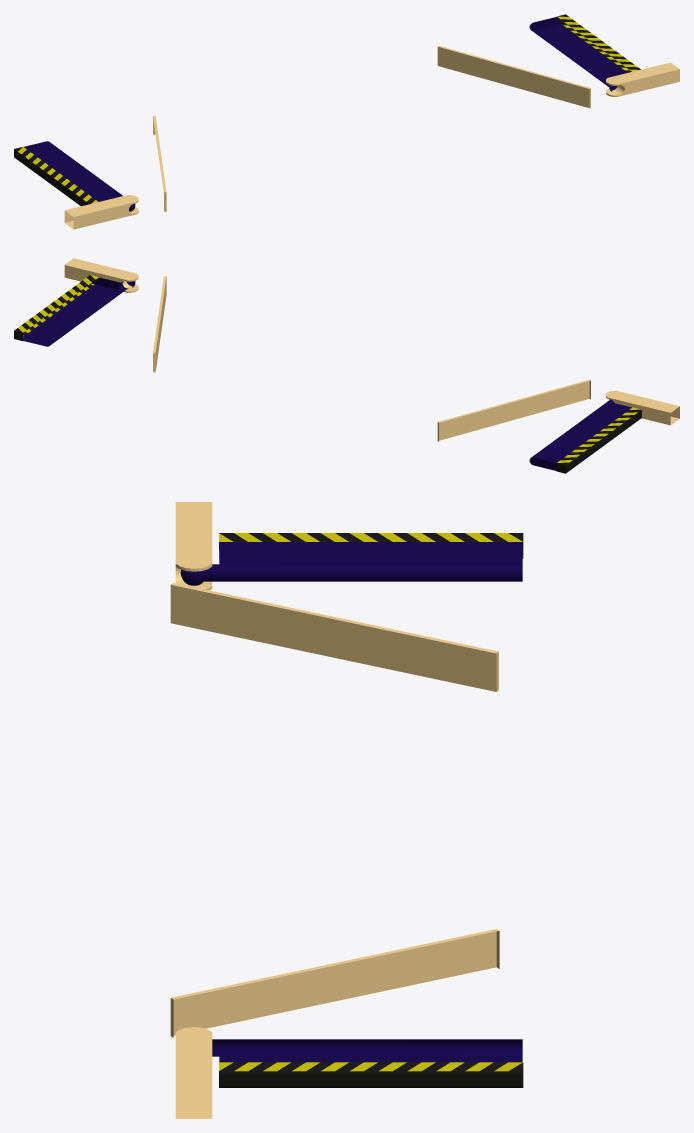
Rendered from sweepers.glb.
The picture shows the model from 3 angles, top to bottom: view 1: azimuth 30°, elevation 25°; view 2: azimuth 150°, elevation 25°; view 3: azimuth 270°, elevation 25°; orthographic projection. The views are drawn at different scales.
Parts seen in each view (by area): view 1: right-door, right-sweeper, left-sweeper, left-base, right-base, left-flap, right-flap; view 2: left-door, right-sweeper, left-sweeper, left-flap, left-base, right-base, right-flap, right-door; view 3: left-door, right-door, left-sweeper, right-flap, right-sweeper, right-base, left-base, left-flap.
Part boxes in pixels (box(x1,y1,x2,y2)): right-door: box(437, 46, 590, 108); right-sweeper: box(529, 17, 627, 91); left-sweeper: box(24, 141, 135, 211); left-base: box(64, 195, 138, 229); right-base: box(606, 62, 679, 96); left-flap: box(14, 147, 98, 206); right-flap: box(557, 14, 640, 72); left-door: box(437, 379, 590, 441); right-sweeper: box(23, 277, 135, 346); left-sweeper: box(529, 399, 631, 470); left-flap: box(556, 407, 641, 473); left-base: box(605, 390, 679, 425); right-base: box(64, 258, 138, 292); right-flap: box(14, 275, 98, 340); right-door: box(153, 276, 166, 372); left-door: box(170, 583, 498, 691); right-door: box(170, 929, 499, 1037); left-sweeper: box(180, 542, 522, 585); right-flap: box(219, 1062, 523, 1087); right-sweeper: box(212, 1039, 522, 1062); right-base: box(175, 1027, 212, 1118); left-base: box(175, 502, 212, 590); left-flap: box(219, 533, 523, 558).
Size of the model in its own units: 1.32 by 0.04 by 0.3325.
